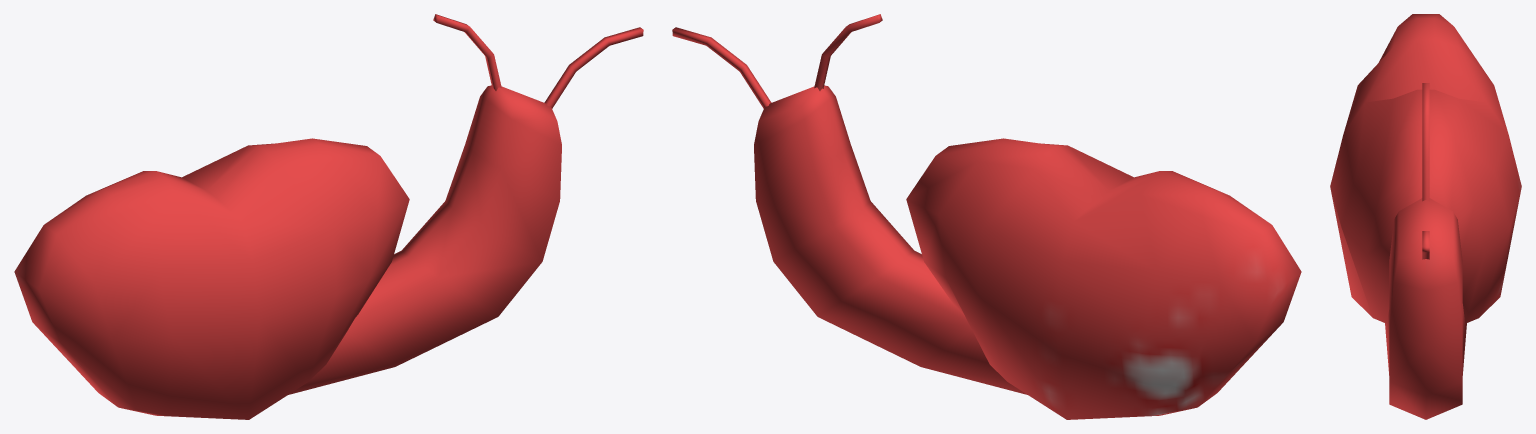
File: Snail.fbx
The picture shows the model from 3 angles, left to right: view 1: azimuth 30°, elevation 25°; view 2: azimuth 150°, elevation 25°; view 3: azimuth 270°, elevation 25°; orthographic projection.
Visible parts, largest first — view 1: Snail; view 2: Snail; view 3: Snail.
Part boxes in pixels (<box>): Snail: <box>14,14,643,419</box>; Snail: <box>672,14,1301,419</box>; Snail: <box>1330,14,1521,419</box>.
Size of the model in its own units: 2.03 by 1.06 by 0.5449.
Materials: 1 (1 with a texture image).
